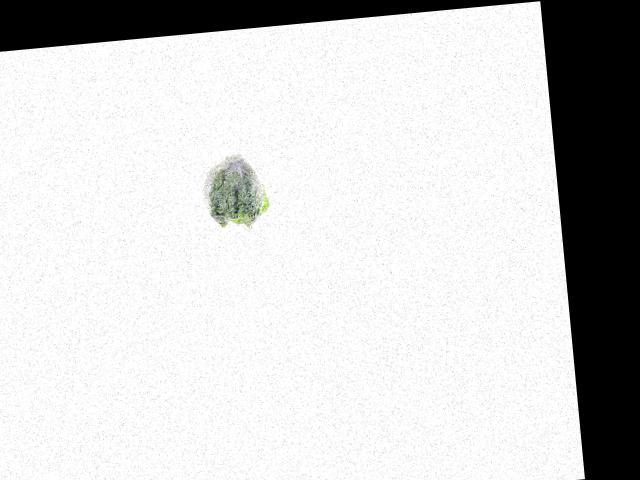lettuce: (198, 151, 274, 230)
